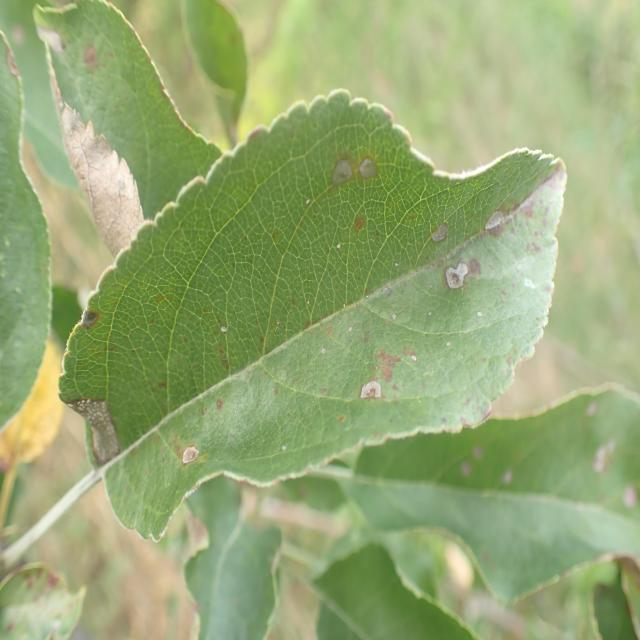frog-eye-leaf-spot: (57, 87, 570, 546)
